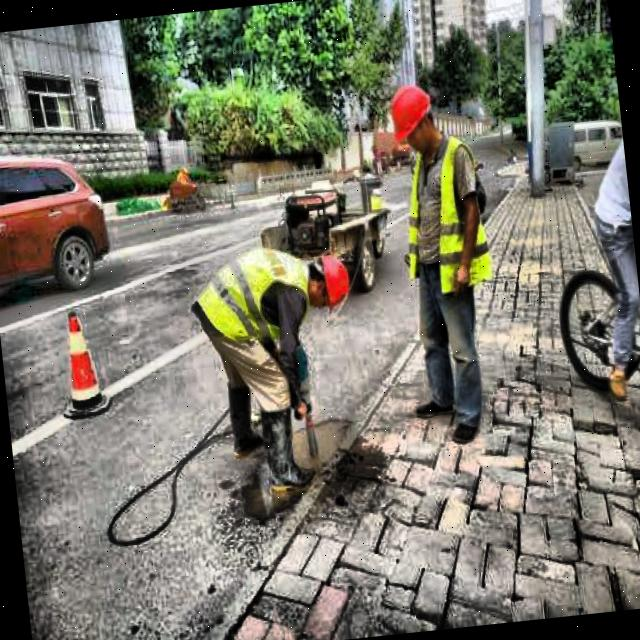helmet: (381, 76, 442, 162), (300, 250, 358, 310)
